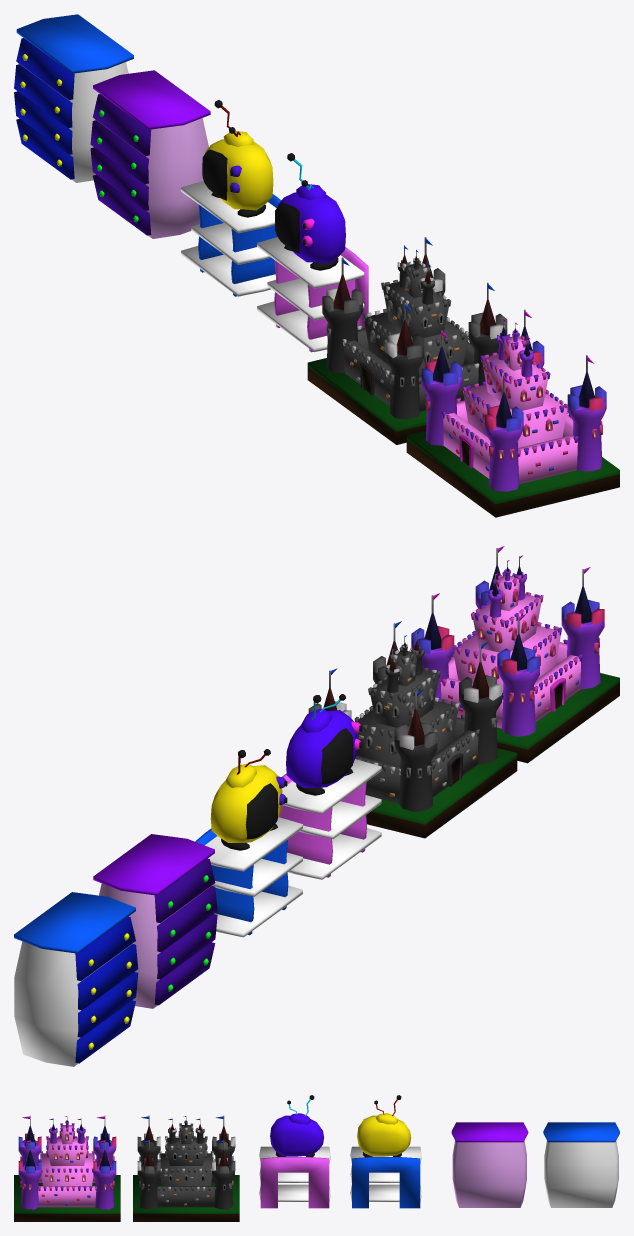
The model's file is TeensRoom_DresserTvStandTVCastle.FBX.
3 views of the same model, one above another, from view 1: azimuth 30°, elevation 25°; view 2: azimuth 150°, elevation 25°; view 3: azimuth 270°, elevation 25° (orthographic). The views are drawn at different scales.
Visible parts, largest first — view 1: Projectile_medium_kidsRoom_castle_girl, Projectile_medium_kidsRoom_castle, Projectile_medium_KidsRoom_Dresser_girl, Projectile_medium_KidsRoom_Dresser_boy, Projectile_small_kidsroom_TvStand, Projectile_small_kidsroom_TvStand_girl, Projectile_small_kidsroom_Tv, Projectile_small_kidsroom_Tv_girl; view 2: Projectile_medium_kidsRoom_castle_girl, Projectile_medium_kidsRoom_castle, Projectile_medium_KidsRoom_Dresser_boy, Projectile_medium_KidsRoom_Dresser_girl, Projectile_small_kidsroom_TvStand_girl, Projectile_small_kidsroom_TvStand, Projectile_small_kidsroom_Tv, Projectile_small_kidsroom_Tv_girl; view 3: Projectile_medium_kidsRoom_castle, Projectile_medium_kidsRoom_castle_girl, Projectile_medium_KidsRoom_Dresser_boy, Projectile_medium_KidsRoom_Dresser_girl, Projectile_small_kidsroom_TvStand_girl, Projectile_small_kidsroom_TvStand, Projectile_small_kidsroom_Tv_girl, Projectile_small_kidsroom_Tv.
Boxes of the visible parts, box(x1,y1,x2,y2) form: Projectile_medium_kidsRoom_castle_girl: box(406, 309, 619, 517); Projectile_medium_kidsRoom_castle: box(307, 237, 507, 444); Projectile_medium_KidsRoom_Dresser_girl: box(90, 70, 210, 238); Projectile_medium_KidsRoom_Dresser_boy: box(14, 14, 133, 182); Projectile_small_kidsroom_TvStand: box(181, 181, 281, 296); Projectile_small_kidsroom_TvStand_girl: box(257, 237, 368, 352); Projectile_small_kidsroom_Tv: box(202, 100, 273, 217); Projectile_small_kidsroom_Tv_girl: box(275, 153, 345, 270); Projectile_medium_kidsRoom_castle_girl: box(411, 546, 619, 763); Projectile_medium_kidsRoom_castle: box(308, 621, 517, 838); Projectile_medium_KidsRoom_Dresser_boy: box(14, 892, 138, 1066); Projectile_medium_KidsRoom_Dresser_girl: box(93, 834, 217, 1008); Projectile_small_kidsroom_TvStand_girl: box(279, 759, 381, 879); Projectile_small_kidsroom_TvStand: box(195, 817, 302, 937); Projectile_small_kidsroom_Tv: box(210, 749, 287, 850); Projectile_small_kidsroom_Tv_girl: box(286, 694, 362, 795); Projectile_medium_kidsRoom_castle: box(133, 1115, 239, 1221); Projectile_medium_kidsRoom_castle_girl: box(14, 1115, 120, 1221); Projectile_medium_KidsRoom_Dresser_boy: box(543, 1122, 619, 1207); Projectile_medium_KidsRoom_Dresser_girl: box(451, 1122, 528, 1207); Projectile_small_kidsroom_TvStand_girl: box(259, 1146, 330, 1208); Projectile_small_kidsroom_TvStand: box(350, 1146, 421, 1208); Projectile_small_kidsroom_Tv_girl: box(270, 1095, 323, 1157); Projectile_small_kidsroom_Tv: box(357, 1095, 411, 1157).
Bounding box in the file's own units: 240 × 317 × 1690.
